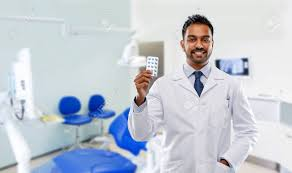Indian_Male: (181, 20, 221, 66)
